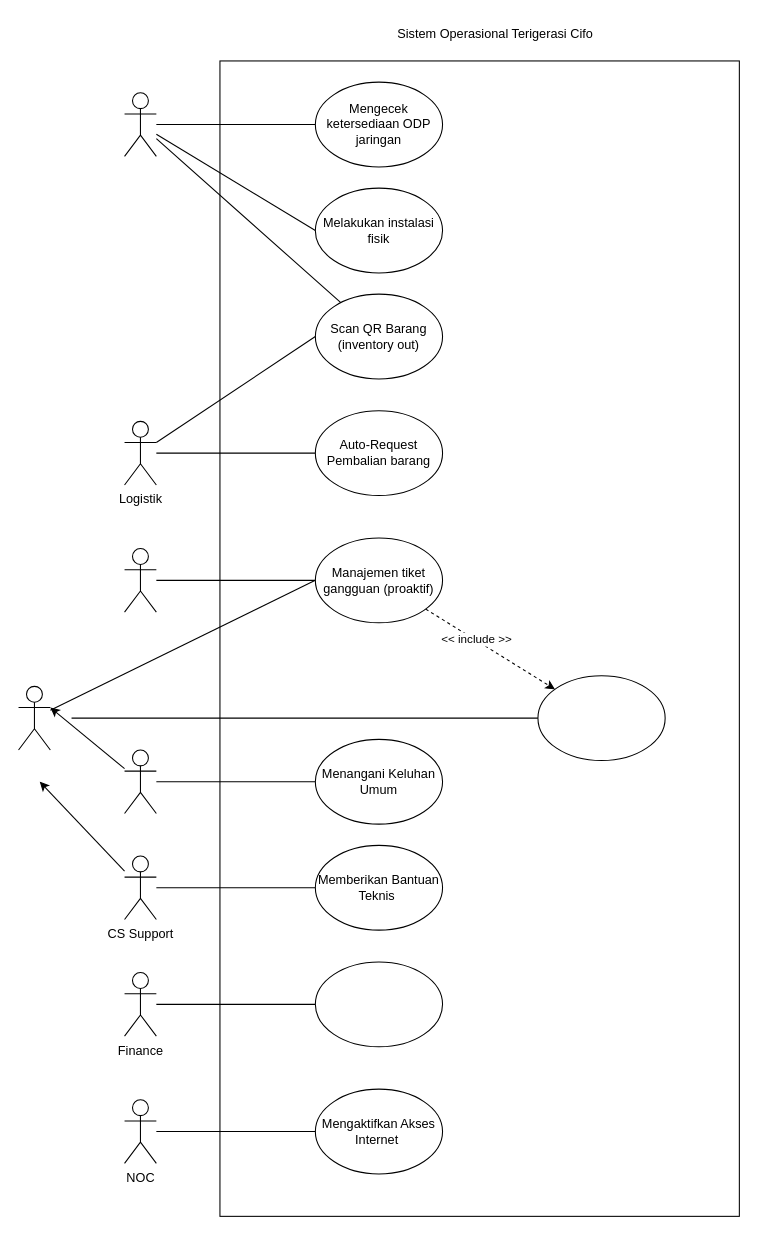
Image size: 758x1235. Some labels were removed from this diagram. The centre of each missing label's shape, as x and y in pixels:
Audit keuangan Otomatis: the point at 378,1004
CS: the point at 33,717
CS Care: the point at 139,781
Mengakses Data Pelanggan: the point at 601,718
Pelanggan: the point at 139,579
Teknisi: the point at 139,124
